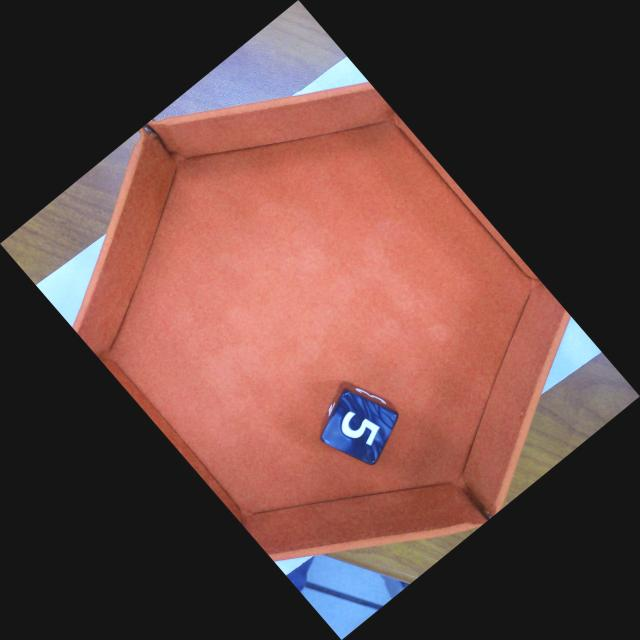dice: (317, 391, 400, 464)
